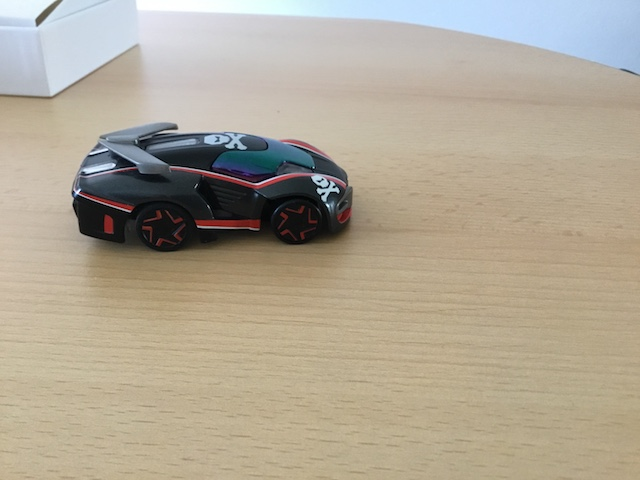car-red: (69, 118, 358, 254)
